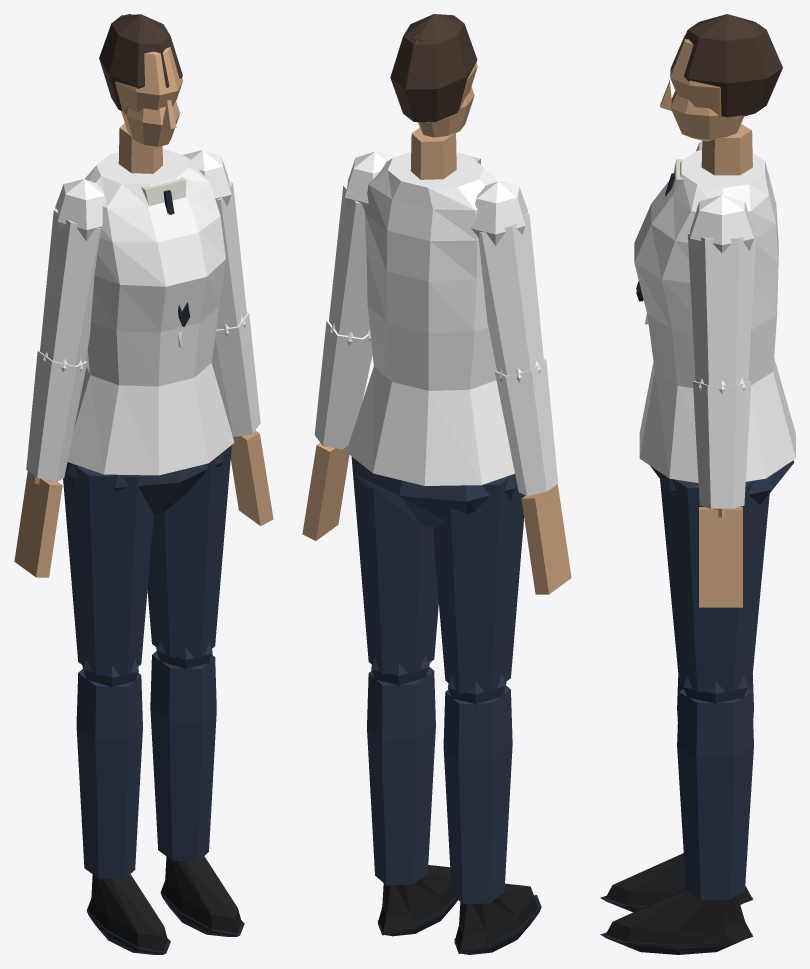
Rendered from anchor.glb.
3 renders of one model, left to right at view 1: azimuth 30°, elevation 25°; view 2: azimuth 150°, elevation 25°; view 3: azimuth 270°, elevation 25°, orthographic. The views are drawn at different scales.
Parts seen in each view (by area): view 1: joint_body, joint_shinR, joint_shinL, joint_thighL, joint_thighR, joint_head, joint_forearmL, joint_armL, joint_forearmR, joint_armR; view 2: joint_body, joint_shinL, joint_shinR, joint_thighL, joint_thighR, joint_head, joint_armL, joint_forearmL, joint_forearmR, joint_armR; view 3: joint_body, joint_shinR, joint_thighR, joint_head, joint_armR, joint_forearmR, joint_shinL.
Boxes of the visible parts, x1,y1,x2,y2 form: joint_body: [66, 148, 234, 514]; joint_shinR: [150, 651, 244, 936]; joint_shinL: [76, 669, 170, 954]; joint_thighL: [63, 462, 153, 687]; joint_thighR: [147, 445, 231, 669]; joint_head: [99, 14, 182, 173]; joint_forearmL: [14, 350, 87, 577]; joint_armL: [40, 179, 106, 372]; joint_forearmR: [211, 311, 273, 525]; joint_armR: [182, 150, 246, 336]; joint_body: [346, 152, 516, 528]; joint_shinL: [443, 685, 541, 954]; joint_shinR: [367, 667, 457, 936]; joint_thighL: [432, 473, 525, 705]; joint_thighR: [351, 457, 438, 686]; joint_head: [390, 14, 477, 179]; joint_armL: [470, 181, 543, 382]; joint_forearmL: [495, 359, 571, 594]; joint_forearmR: [302, 319, 372, 540]; joint_armR: [329, 151, 395, 345]; joint_body: [634, 150, 795, 504]; joint_shinR: [600, 689, 753, 954]; joint_thighR: [659, 472, 769, 704]; joint_head: [660, 14, 782, 175]; joint_armR: [687, 195, 756, 394]; joint_forearmR: [693, 381, 751, 607]; joint_shinL: [600, 674, 753, 912].
Bounding box in the file's own units: 0.5 × 1.8 × 0.35.
